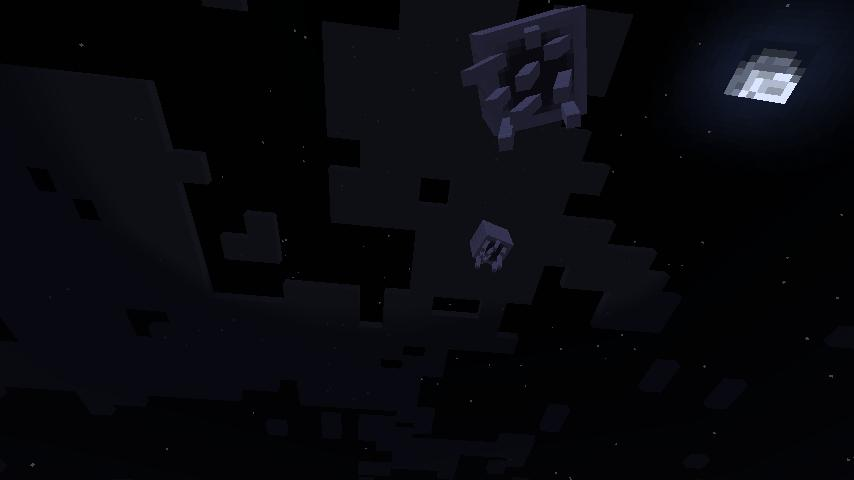ghast: (462, 1, 591, 146), (466, 216, 516, 274)
